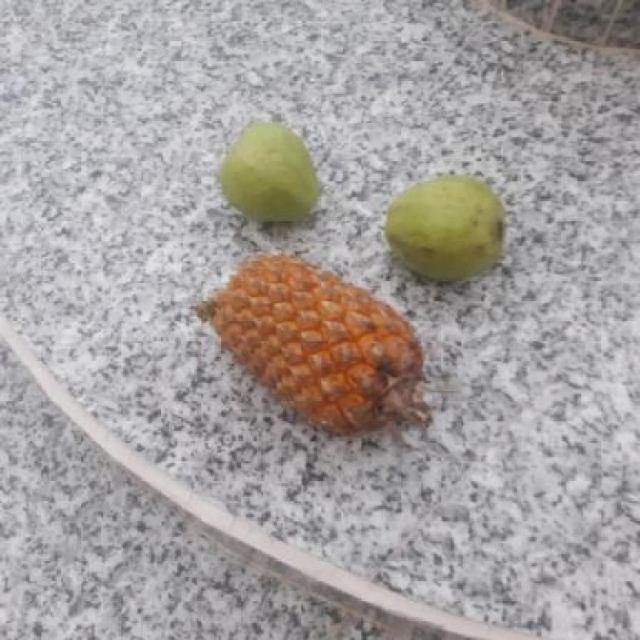guava: (380, 176, 506, 281), (215, 119, 322, 224)
pineapple: (195, 251, 430, 437)
